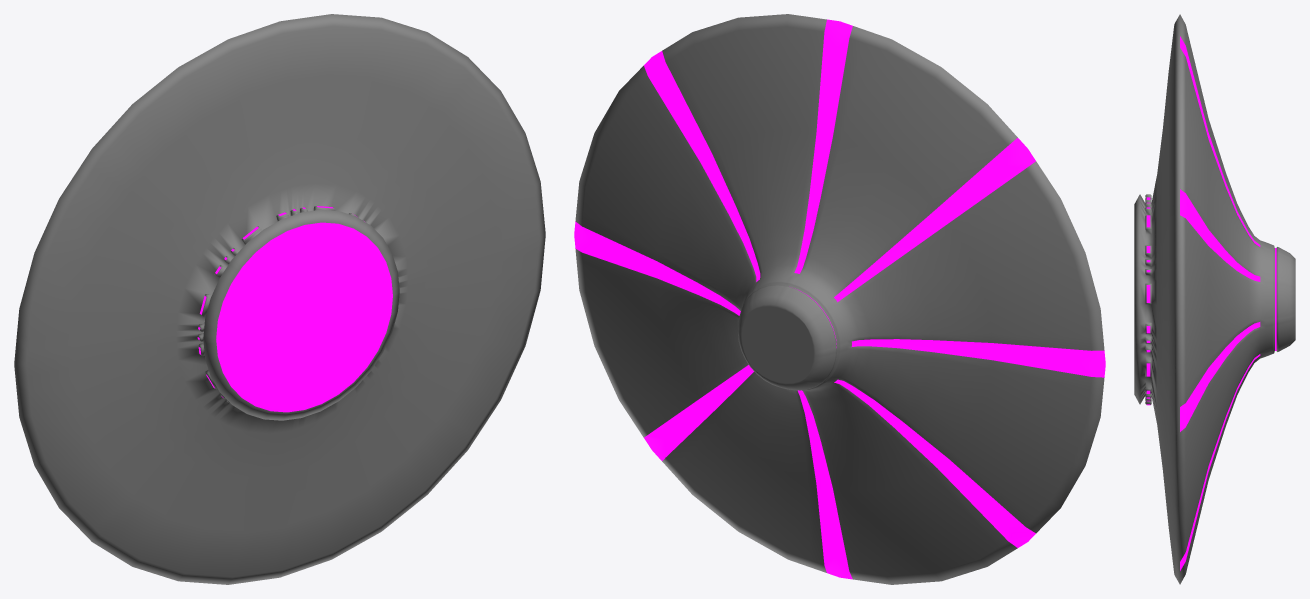
Rendered from player UFO.fbx.
3 views of the same model, side by side, from view 1: azimuth 30°, elevation 25°; view 2: azimuth 150°, elevation 25°; view 3: azimuth 270°, elevation 25° (orthographic). The views are drawn at different scales.
Visible parts, largest first — view 1: Player UFO; view 2: Player UFO; view 3: Player UFO.
Boxes of the visible parts, bbox=[...] form: Player UFO: bbox=[14, 14, 545, 584]; Player UFO: bbox=[574, 14, 1105, 584]; Player UFO: bbox=[1134, 14, 1295, 584].
Bounding box in the file's own units: 998 × 998 × 282.
